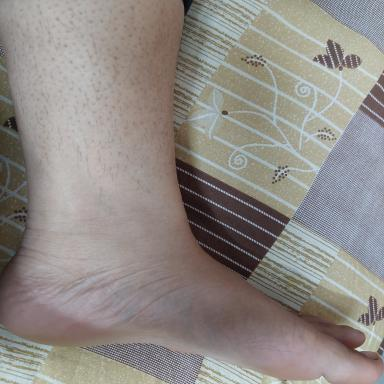normal skin: (1, 0, 383, 384)
